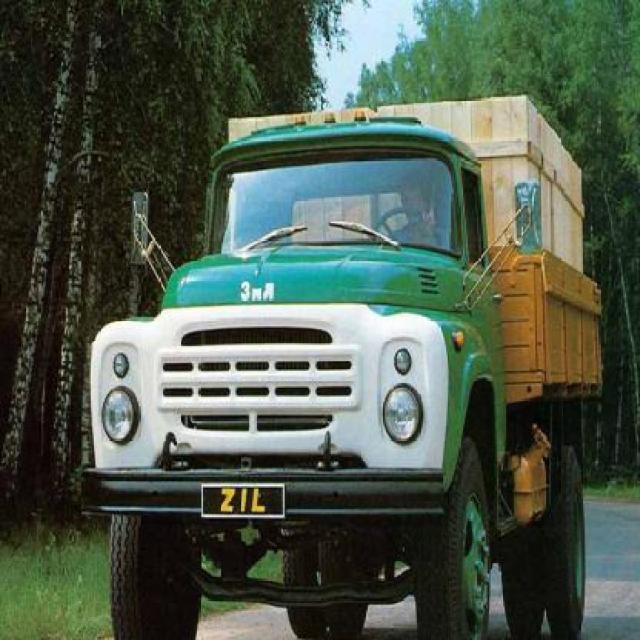dump_truck: (68, 83, 609, 634)
